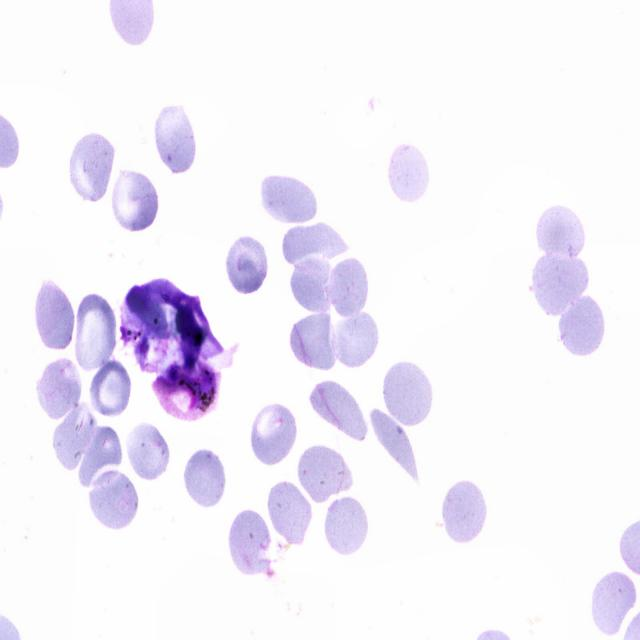difficult: (150, 358, 223, 424)
red blood cell: (381, 356, 435, 431), (308, 379, 368, 444), (532, 250, 590, 316), (72, 289, 117, 374), (370, 409, 420, 484), (66, 129, 116, 203), (84, 467, 140, 532), (154, 98, 200, 176), (265, 476, 316, 546), (110, 167, 163, 234), (440, 474, 489, 545), (52, 401, 99, 475), (249, 398, 299, 466), (292, 445, 350, 502), (33, 278, 77, 353), (591, 568, 638, 638), (282, 222, 350, 270), (555, 293, 605, 358), (34, 355, 82, 422), (329, 305, 379, 369), (76, 423, 122, 492), (226, 508, 272, 576), (182, 444, 228, 511), (223, 234, 271, 297), (322, 494, 370, 556), (262, 172, 319, 223), (535, 202, 586, 259), (288, 316, 338, 373), (326, 258, 369, 320), (123, 422, 170, 478), (388, 143, 430, 205), (90, 359, 134, 418), (290, 255, 332, 316)
